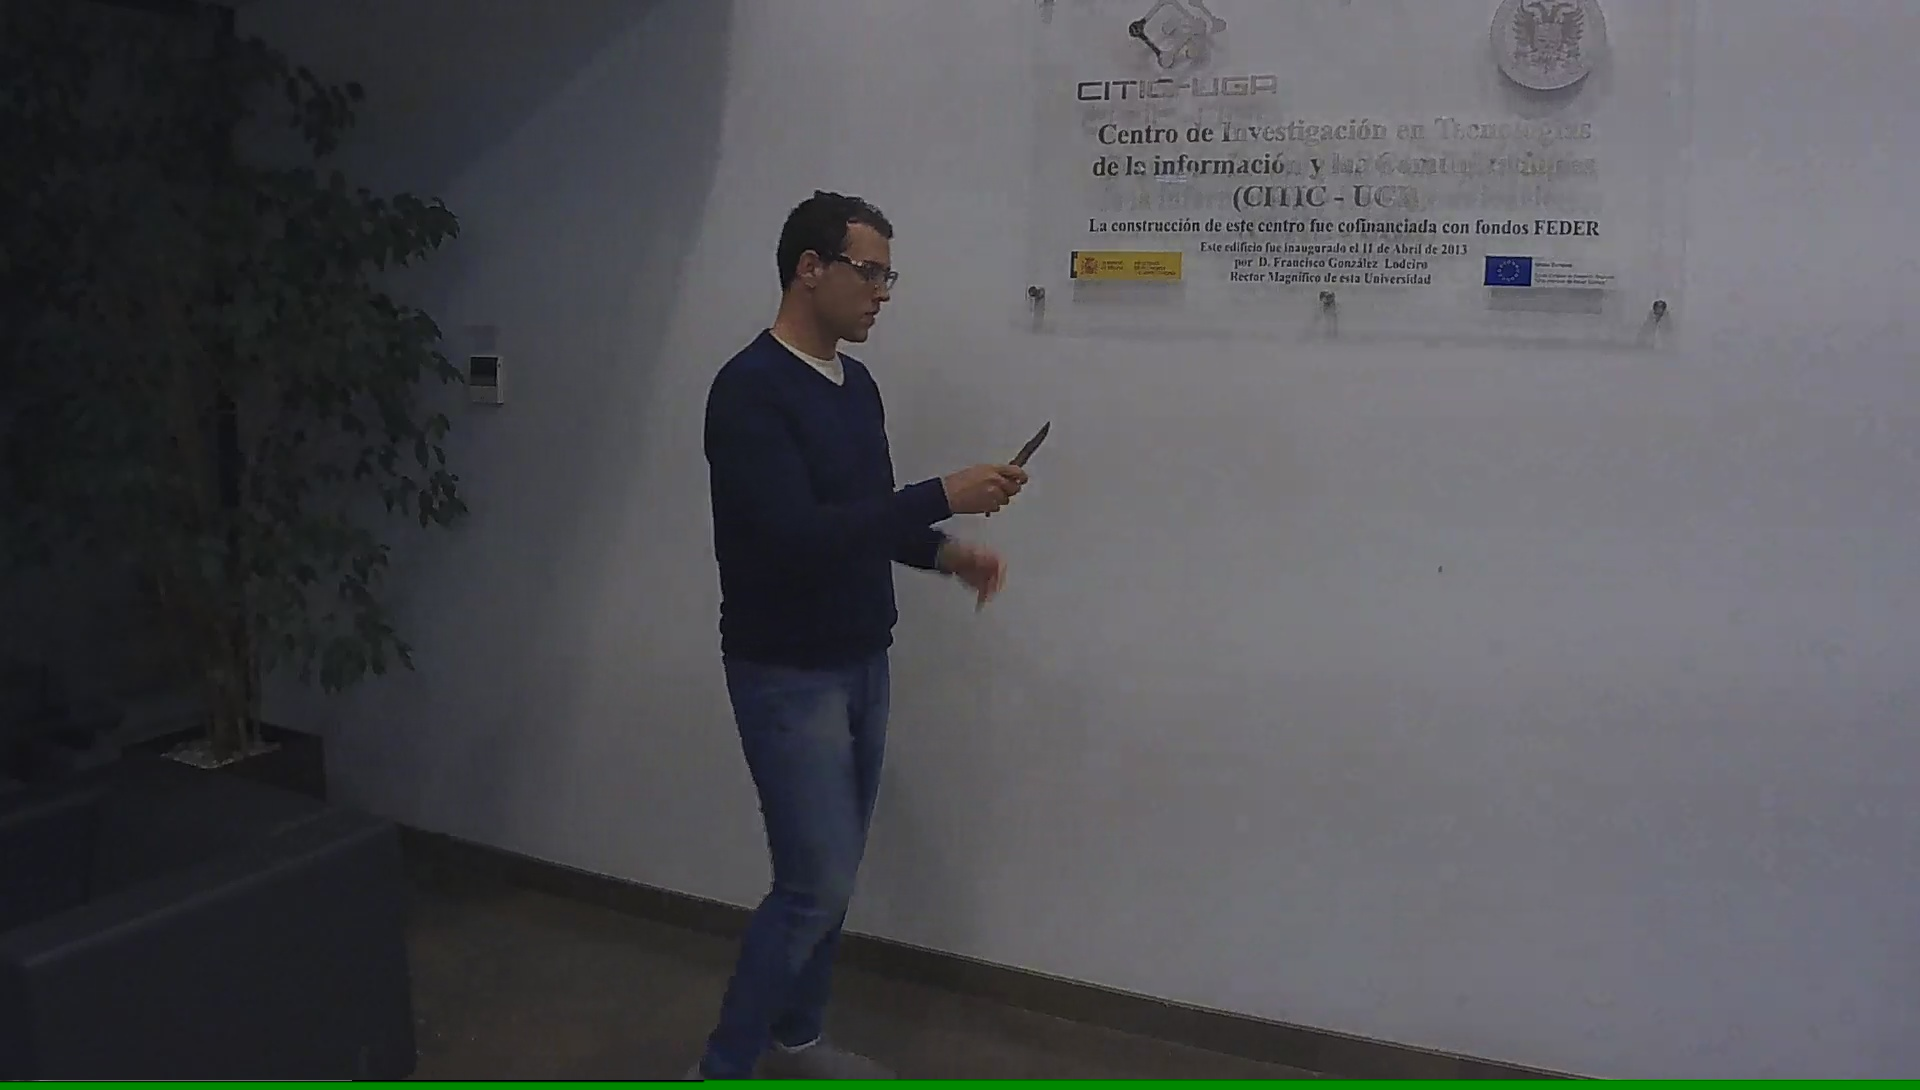knife: (978, 414, 1058, 523)
